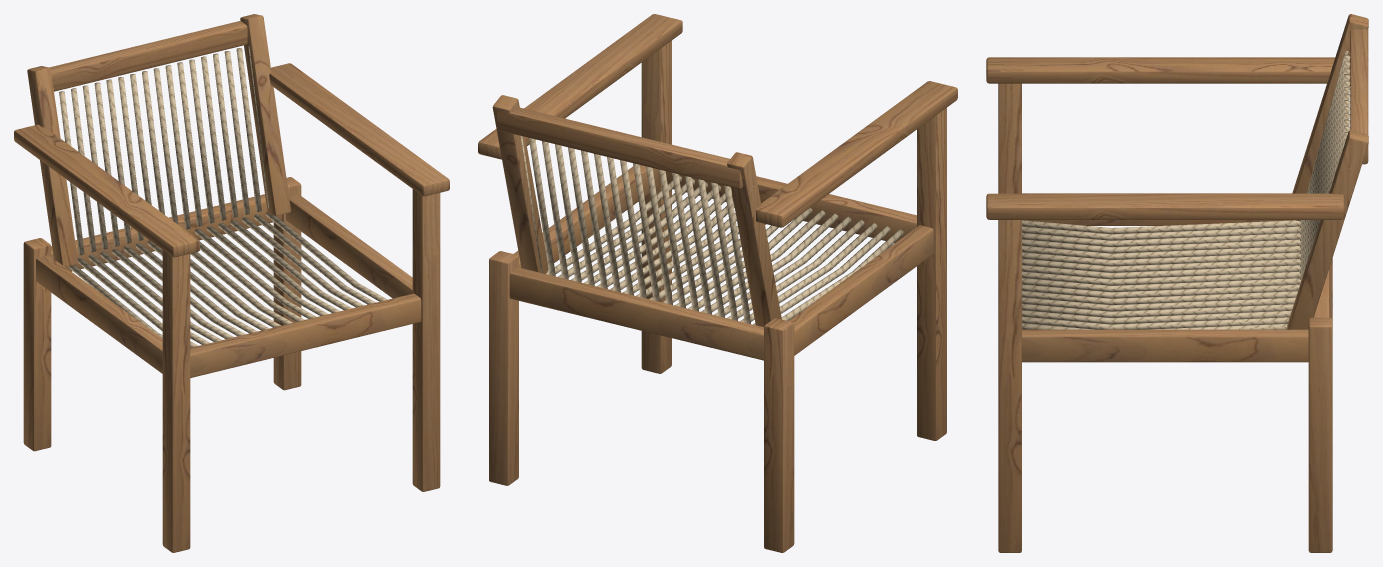
Rendered from silla_cuerda_teca.glb.
The picture shows the model from 3 angles, left to right: view 1: azimuth 30°, elevation 25°; view 2: azimuth 150°, elevation 25°; view 3: azimuth 270°, elevation 25°; orthographic projection. The views are drawn at different scales.
Visible parts, largest first — view 1: silla_cuerda_teca; view 2: silla_cuerda_teca; view 3: silla_cuerda_teca.
Part boxes in pixels (x1=…): silla_cuerda_teca: x1=14, y1=14, x2=449, y2=552; silla_cuerda_teca: x1=478, y1=14, x2=957, y2=552; silla_cuerda_teca: x1=986, y1=14, x2=1368, y2=552.
Size of the model in its own units: 0.6001 by 0.749 by 0.6405.
Materials: 2 (2 with a texture image).
